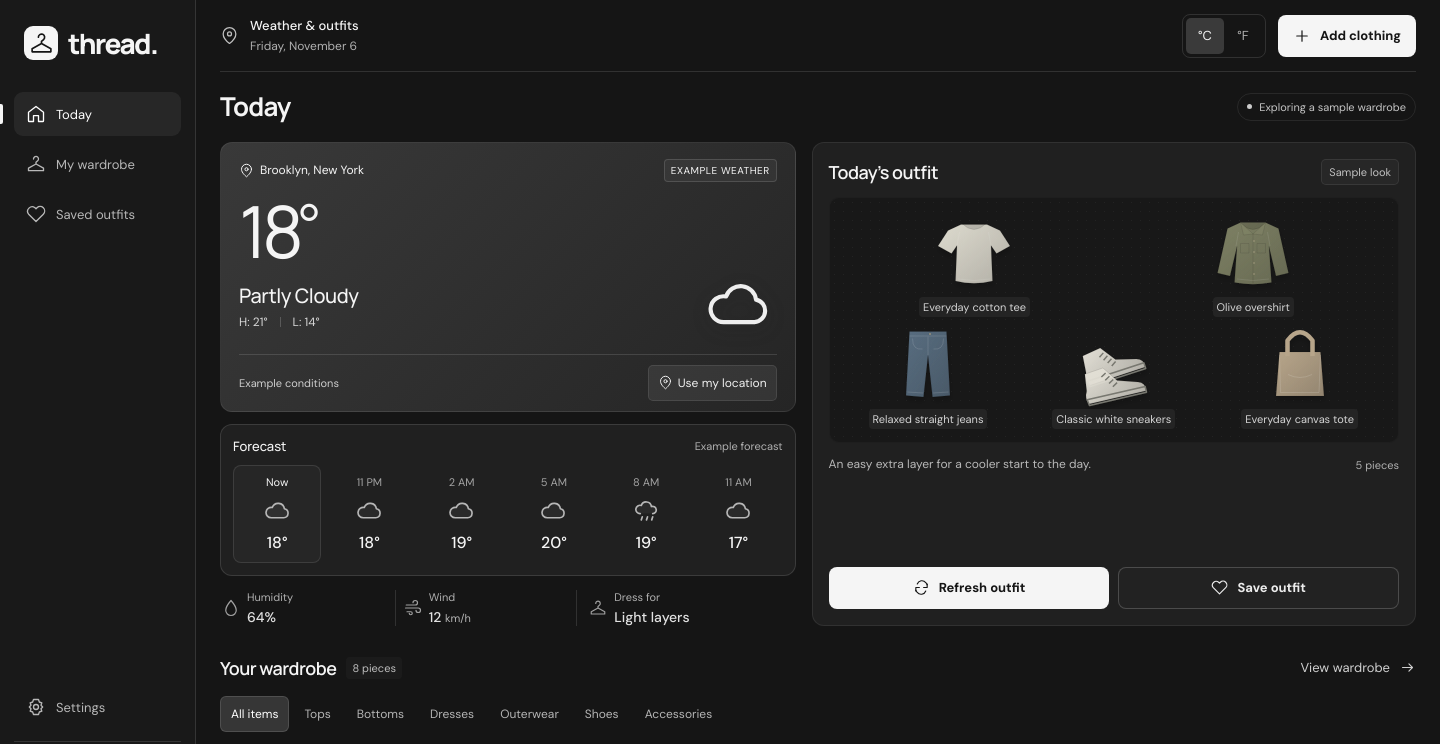
Scenario: persists outfits and opens them in Saved outfits
Click the button "Save outfit" at {"x": 1259, "y": 588}, box [1118, 567, 1399, 609]
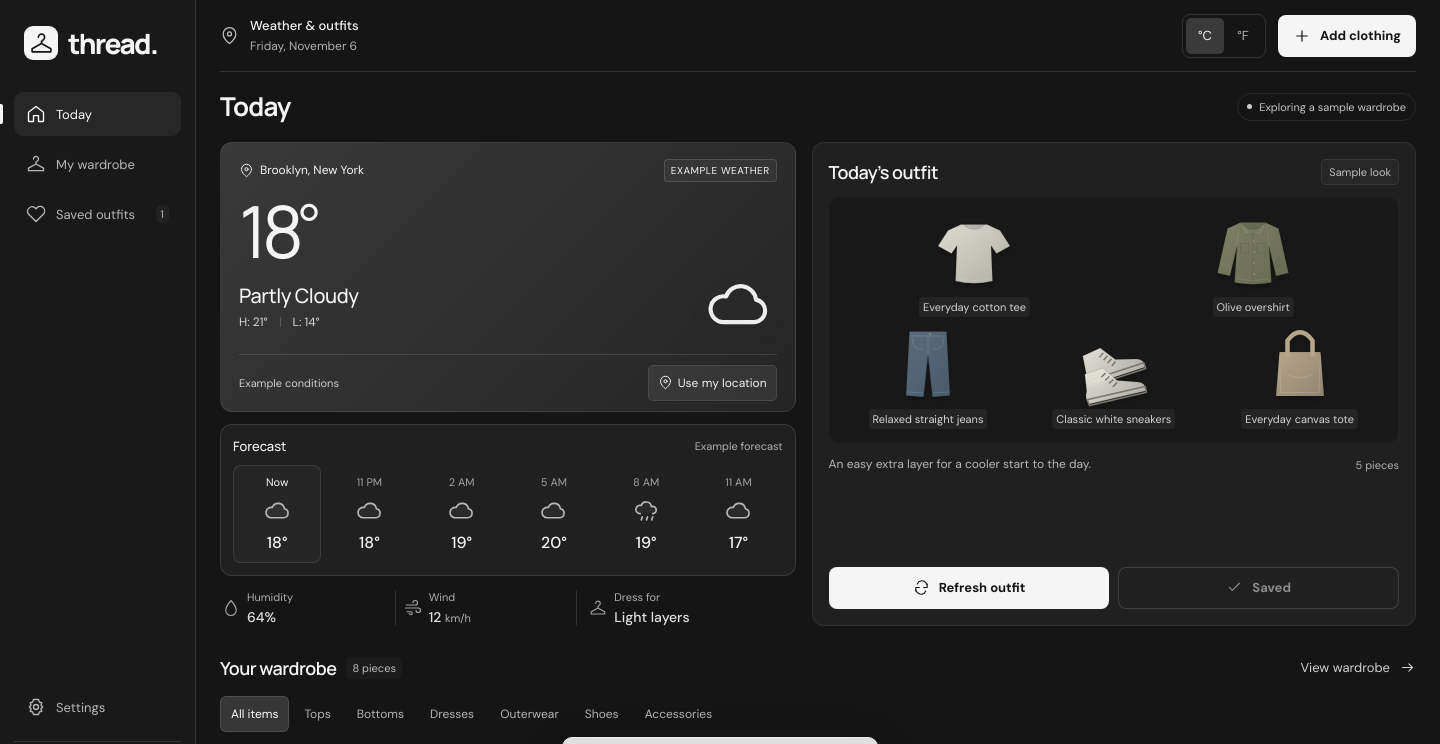
Check: the button "Saved" is shown, box [1118, 567, 1399, 609]
Click the button "Saved outfits 1" at {"x": 98, "y": 214}, box [14, 192, 181, 236]
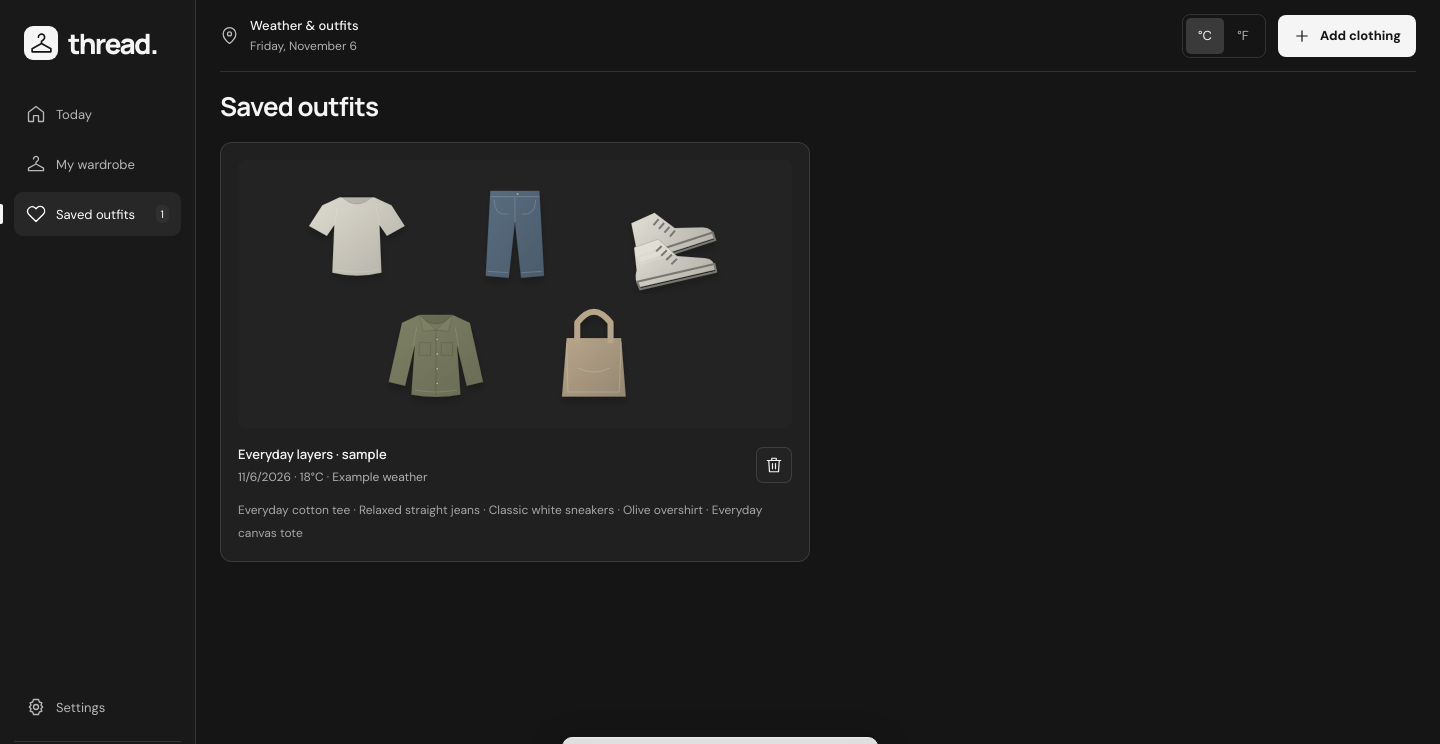
Check: the heading "Everyday layers · sample" is shown, box [238, 445, 387, 463]
